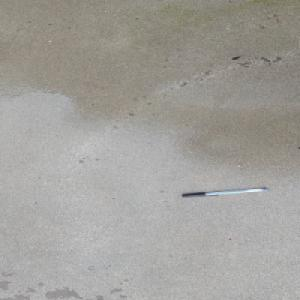Pen: (180, 186, 269, 198)
